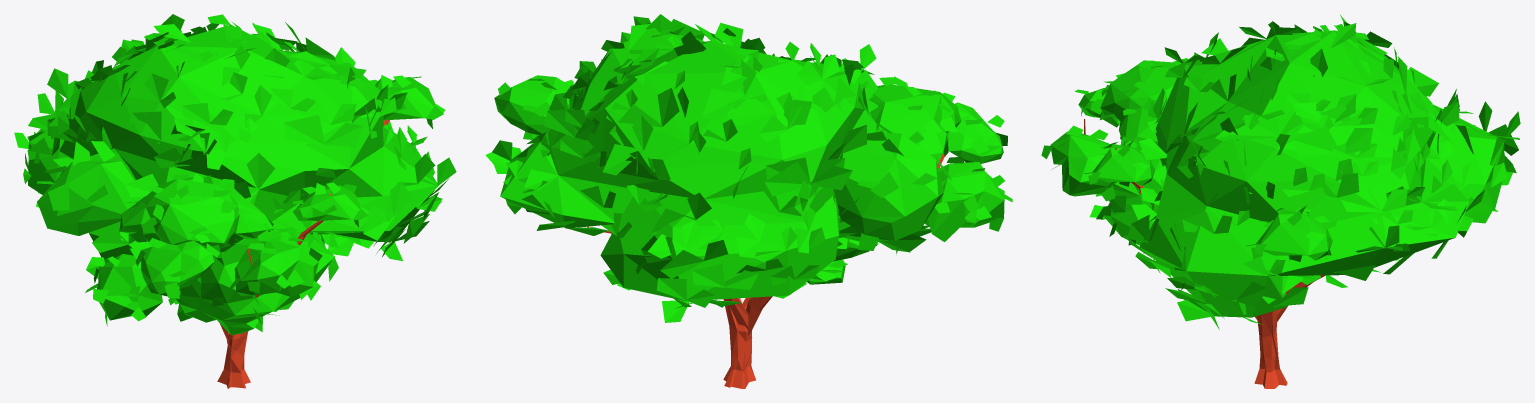
Rendered from SM_Tree_Chinese_Elm_A.fbx.
3 views of the same model, side by side, from view 1: azimuth 30°, elevation 25°; view 2: azimuth 150°, elevation 25°; view 3: azimuth 270°, elevation 25° (orthographic). The views are drawn at different scales.
Parts seen in each view (by area): view 1: SM_Tree_Chinese_Elm_A; view 2: SM_Tree_Chinese_Elm_A; view 3: SM_Tree_Chinese_Elm_A.
Boxes of the visible parts, box(x1,y1,x2,y2) form: SM_Tree_Chinese_Elm_A: box(14, 14, 456, 388); SM_Tree_Chinese_Elm_A: box(485, 14, 1012, 388); SM_Tree_Chinese_Elm_A: box(1041, 15, 1520, 388).
Size of the model in its own units: 9.2 by 7.18 by 9.15.
